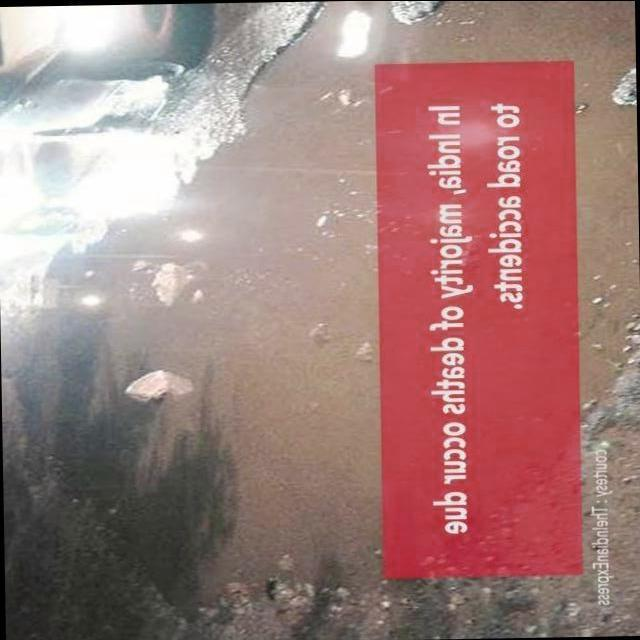pothole: (160, 5, 640, 588)
